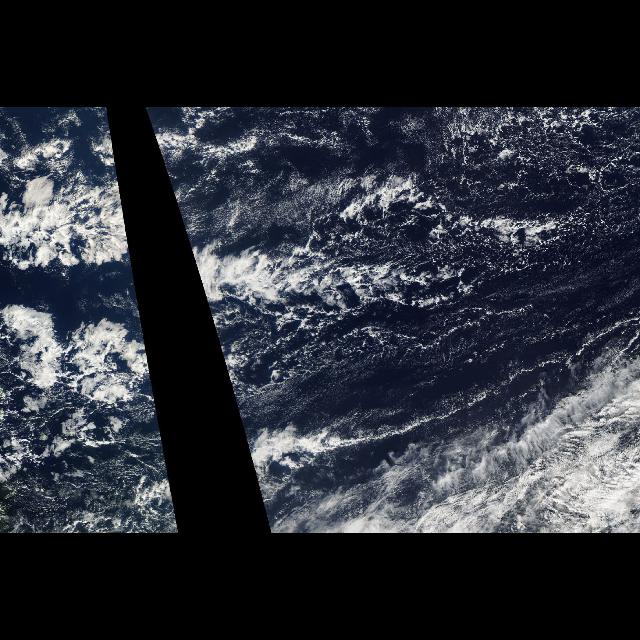Fish: (222, 351, 640, 533), (166, 170, 484, 332), (14, 170, 144, 332), (86, 351, 180, 533)
Gravel: (289, 108, 629, 376)
Sugar: (178, 113, 334, 234)
